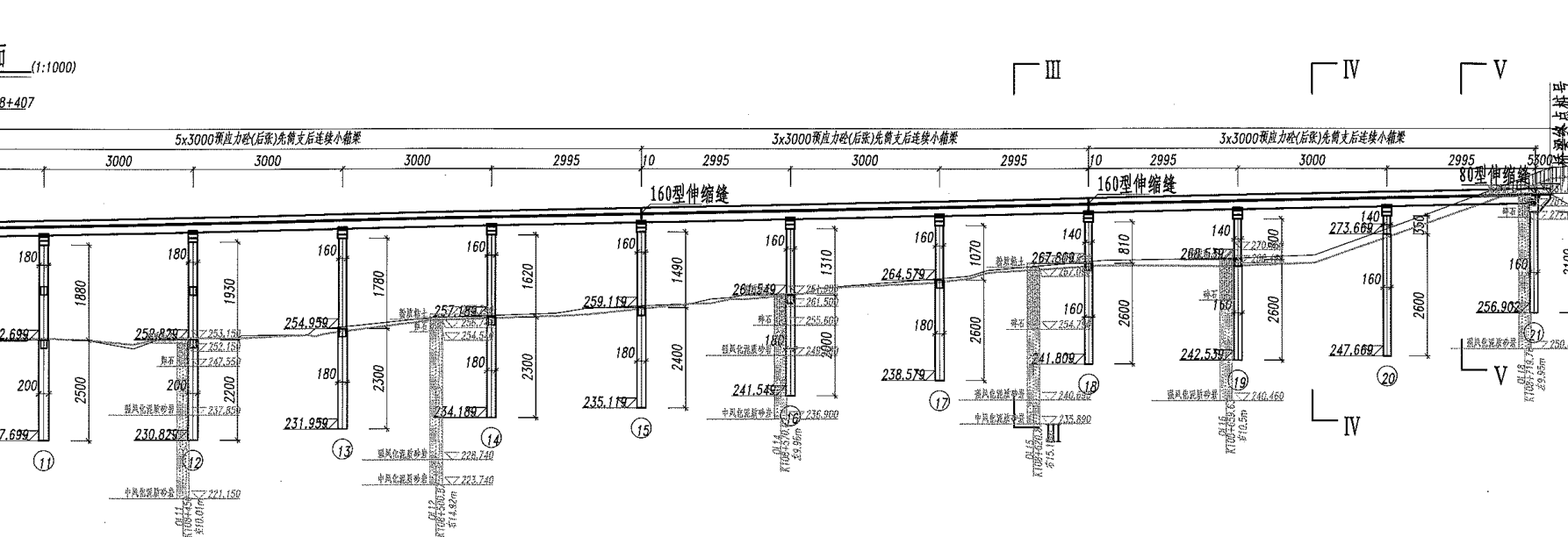A: (1, 82, 1568, 138)
B: (6, 129, 649, 154), (636, 126, 1100, 153), (1082, 128, 1543, 152)
C: (123, 227, 204, 477), (274, 225, 359, 463), (429, 219, 506, 456), (580, 218, 658, 450), (876, 211, 956, 417), (728, 212, 803, 429), (1318, 203, 1404, 389), (1039, 206, 1121, 401), (2, 231, 67, 476), (1169, 203, 1249, 396), (1473, 202, 1546, 345)
